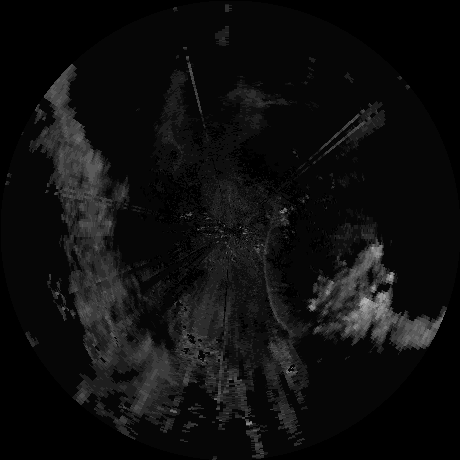frontgust: (262, 224, 294, 331)
